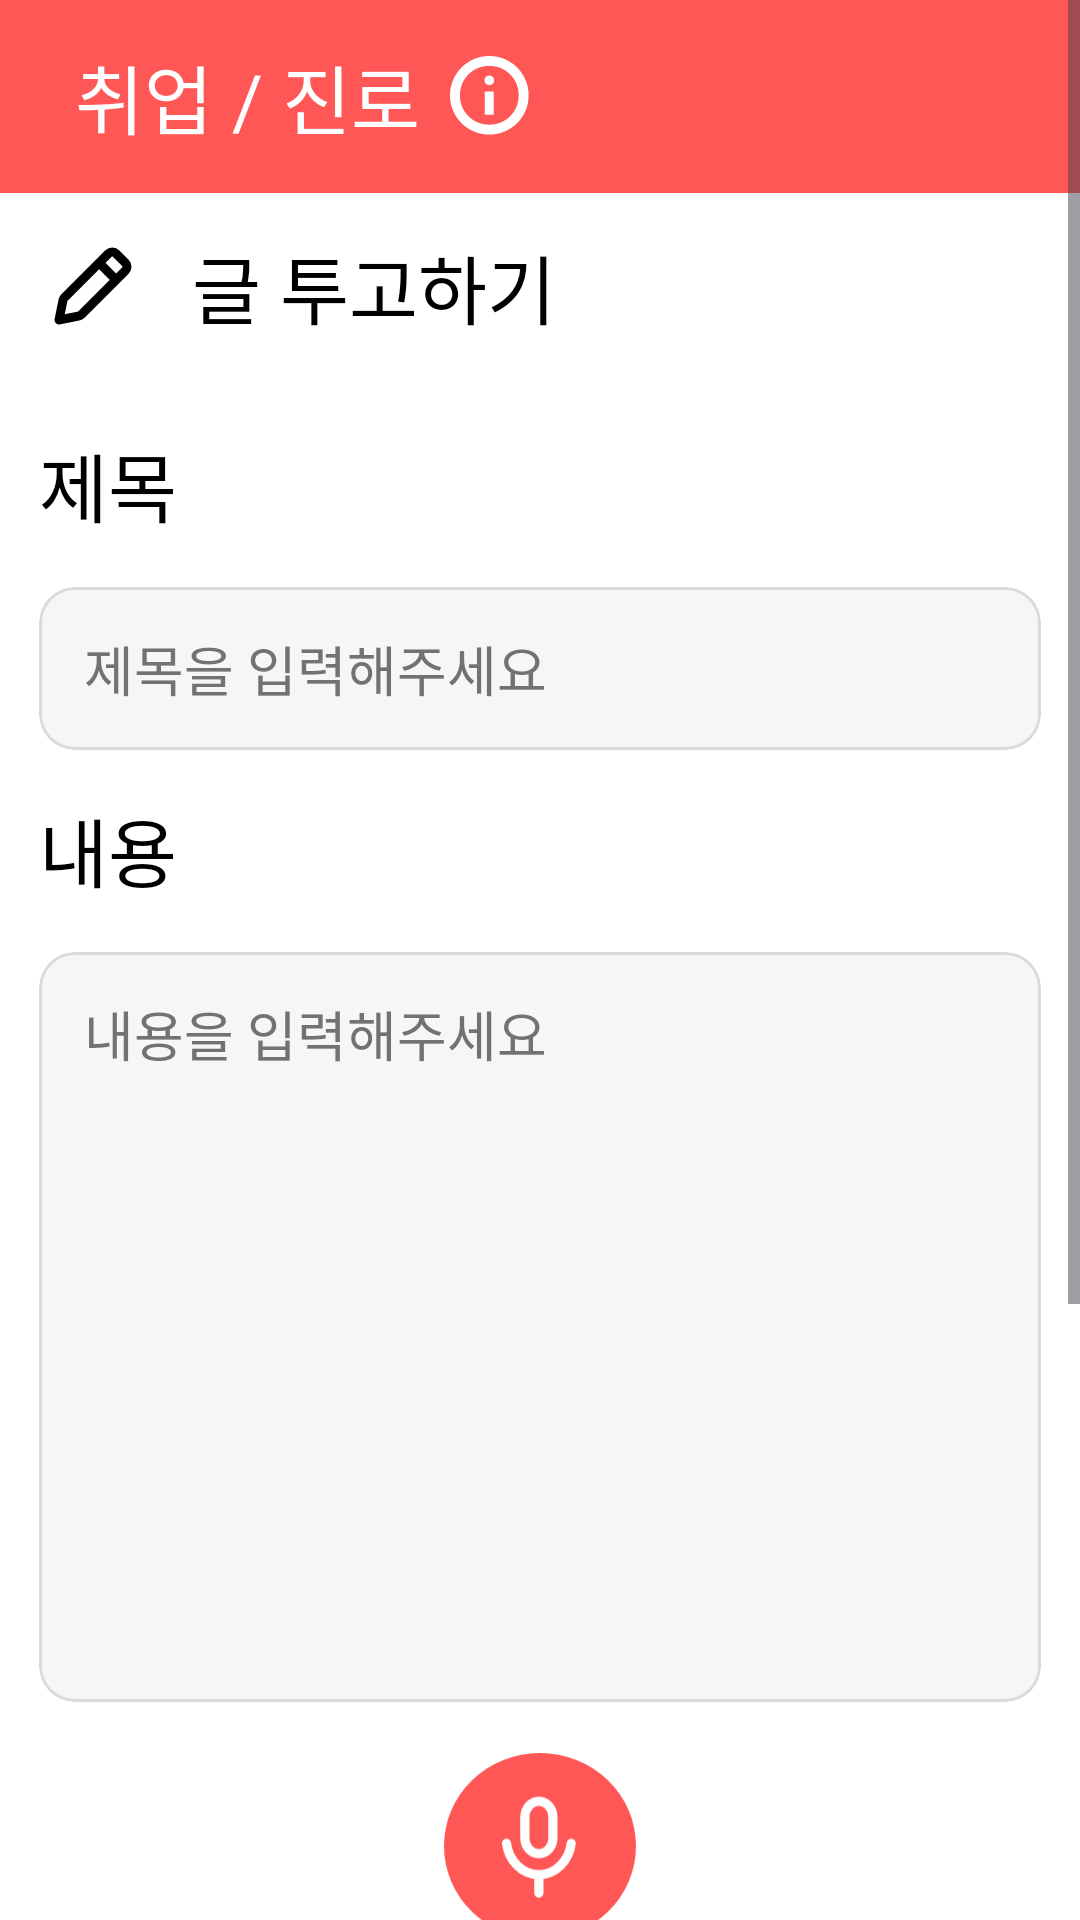

Where icons sit on this 1080px×1920px app screen, as [left=x1, top=y1, right=x2, bottom=y2]:
edit: [left=54, top=247, right=132, bottom=325]
info: [left=450, top=56, right=529, bottom=135]
